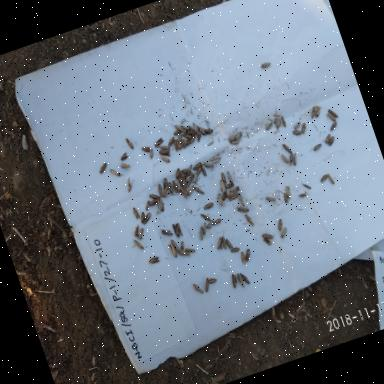pbw: (170, 237, 182, 256), (160, 224, 174, 240), (109, 165, 124, 179), (132, 228, 145, 244), (160, 178, 172, 195), (219, 180, 236, 192), (217, 178, 228, 196), (201, 276, 213, 292), (236, 191, 248, 207), (133, 236, 145, 252), (192, 280, 204, 296), (240, 270, 252, 286), (200, 219, 211, 236), (191, 160, 204, 174), (199, 210, 212, 224), (134, 225, 148, 238), (281, 140, 293, 155), (157, 196, 167, 214), (229, 272, 240, 288), (279, 150, 290, 166), (196, 225, 206, 242), (97, 161, 110, 174), (141, 212, 154, 225), (124, 136, 136, 150), (260, 230, 274, 242), (242, 248, 254, 262), (326, 110, 338, 124), (258, 59, 272, 71), (184, 244, 198, 256), (152, 136, 166, 148), (326, 134, 338, 148), (147, 254, 161, 266), (308, 106, 320, 120), (160, 152, 172, 166), (244, 212, 255, 227), (168, 242, 178, 258), (236, 272, 246, 288), (170, 178, 180, 194), (172, 222, 182, 238), (220, 234, 230, 250), (216, 191, 226, 207), (156, 182, 166, 198), (224, 168, 234, 184), (194, 184, 206, 197), (158, 146, 171, 158), (278, 225, 290, 238), (228, 184, 241, 196), (186, 184, 198, 197), (236, 203, 250, 214), (328, 106, 339, 120), (210, 216, 224, 227), (148, 197, 162, 208), (190, 170, 201, 184), (132, 205, 142, 220), (160, 186, 172, 198), (202, 160, 214, 172), (262, 236, 274, 248), (322, 132, 334, 144), (328, 120, 340, 132), (218, 188, 230, 200), (174, 121, 186, 133), (312, 106, 324, 118), (131, 224, 142, 237), (275, 218, 286, 231), (283, 184, 293, 198), (217, 236, 227, 250), (290, 152, 300, 166), (140, 144, 154, 154), (224, 237, 234, 251), (218, 170, 228, 184), (199, 164, 209, 178), (172, 166, 182, 180), (174, 179, 183, 194), (166, 136, 177, 148), (228, 192, 240, 203), (291, 120, 303, 131), (210, 154, 222, 165), (120, 160, 132, 171), (204, 218, 216, 229), (178, 248, 190, 259), (143, 198, 153, 211), (158, 142, 171, 152), (201, 126, 214, 136), (206, 276, 219, 286), (147, 146, 157, 159), (138, 210, 148, 223), (202, 200, 215, 210), (326, 171, 335, 185), (181, 185, 190, 199), (176, 221, 184, 236), (238, 252, 248, 264), (280, 114, 288, 129), (312, 142, 324, 152), (266, 194, 278, 204), (178, 175, 186, 190), (286, 153, 296, 165), (168, 180, 176, 195), (227, 132, 239, 142), (302, 180, 312, 192), (194, 132, 204, 144), (224, 190, 236, 200), (182, 176, 191, 189), (272, 117, 280, 131), (119, 151, 130, 161), (318, 174, 329, 184), (180, 122, 191, 132), (291, 127, 302, 137), (233, 131, 244, 141), (149, 191, 160, 201), (264, 121, 275, 131), (171, 127, 183, 136), (274, 116, 283, 128), (178, 240, 187, 252), (197, 124, 206, 136), (191, 121, 199, 134), (282, 191, 290, 204), (297, 190, 307, 200), (187, 136, 197, 146), (178, 136, 188, 146), (194, 165, 204, 175), (184, 164, 194, 174), (180, 166, 190, 176), (182, 130, 192, 140), (180, 138, 190, 148), (230, 245, 241, 254), (299, 122, 308, 133), (172, 140, 180, 152), (175, 139, 183, 151), (177, 132, 185, 144), (230, 138, 242, 146), (186, 176, 194, 186), (188, 124, 196, 134), (180, 185, 186, 198)
